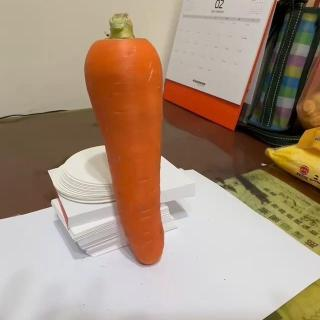carrot: (82, 12, 171, 266)
